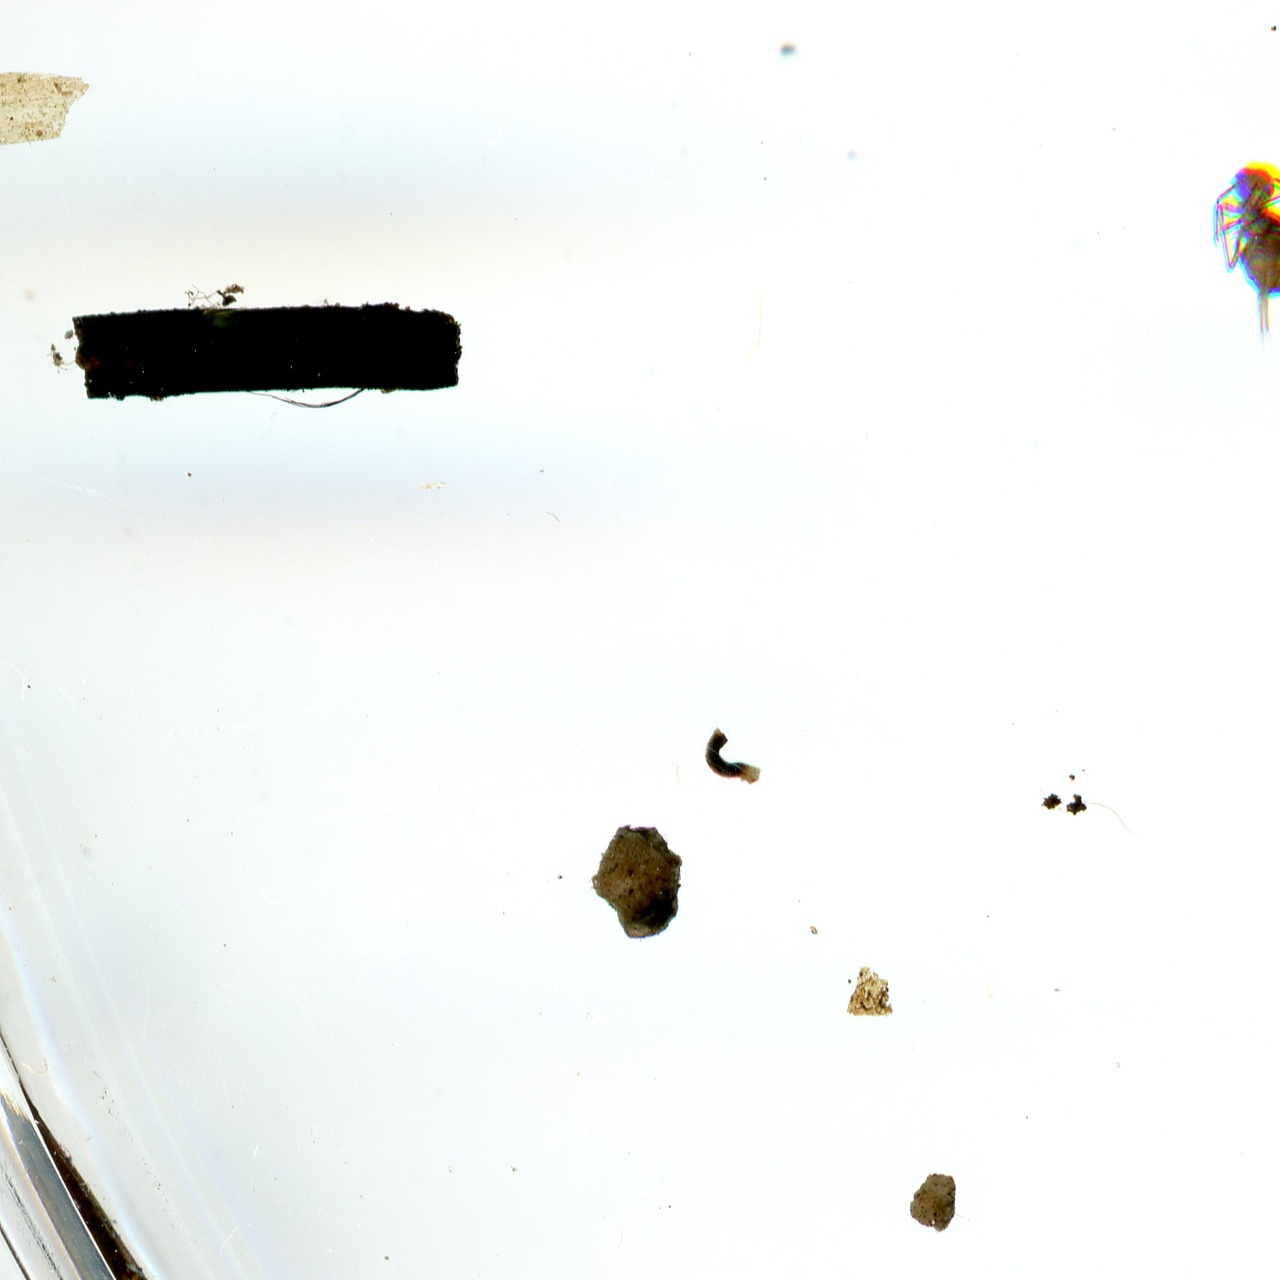arthropod: (1205, 157, 1280, 346)
